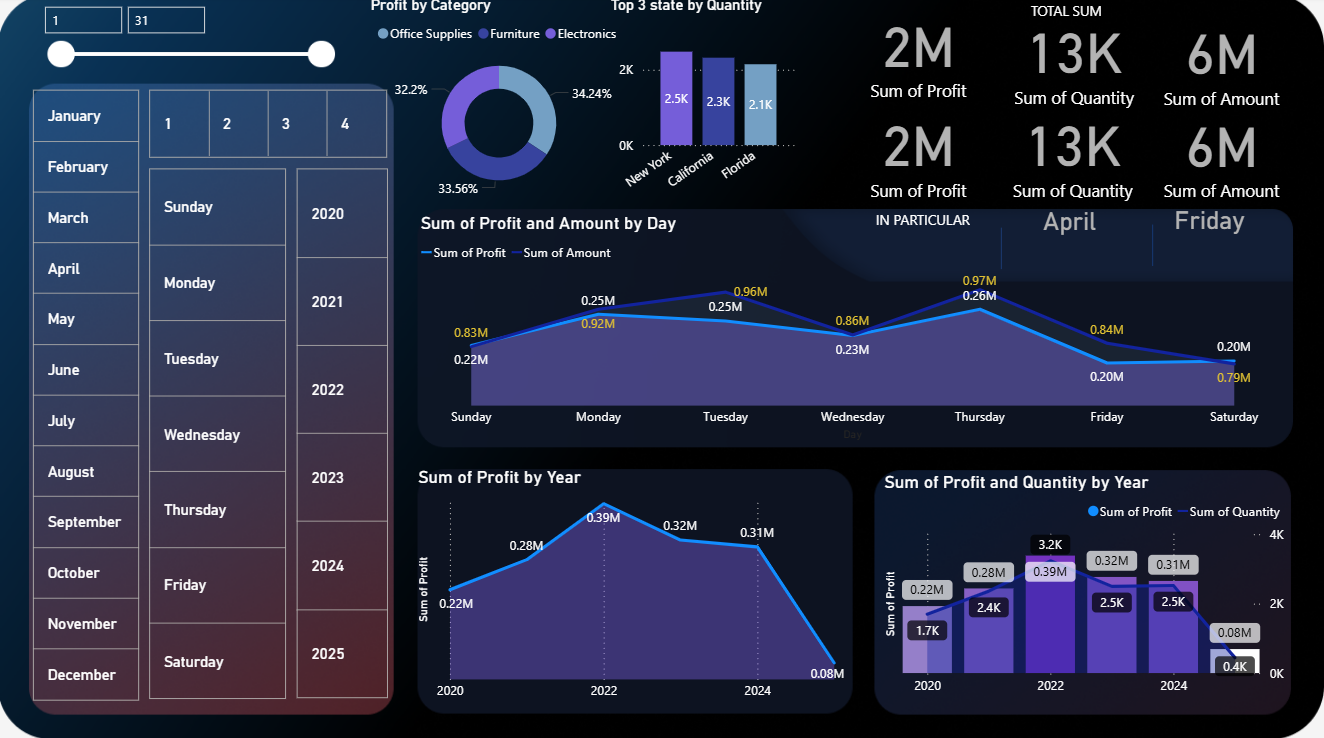

This screenshot's page, from the dashboard's own definition file:
{"tool":"powerbi","page":{"name":"Sales Dashboard","canvas":[1280,720],"ordinal":0},"visuals":[{"type":"card","fields":{"Values":["Sum(Sales Dataset.Amount)"]},"box":[1082.2,89.3,197.9,120.6],"z":0},{"type":"advancedSlicerVisual","fields":{"Values":["Sales Dataset.Year"]},"box":[283.7,161.1,98.4,523.1],"z":1000},{"type":"advancedSlicerVisual","fields":{"Values":["Sales Dataset.Month"]},"box":[28.5,85.5,112.6,608.6],"z":2000},{"type":"advancedSlicerVisual","fields":{"Values":["Sales Dataset.Quarter"]},"box":[141.1,85.5,240.9,75.5],"z":3000},{"type":"cardVisual","fields":{"Data":["Min(Sales Dataset.Month)"]},"box":[992.1,178.2,218.1,61.3],"z":4000},{"type":"advancedSlicerVisual","fields":{"Values":["Sales Dataset.Day"]},"box":[141.1,161.1,142.5,523.1],"z":5000},{"type":"card","fields":{"Values":["Min(Sales Dataset.Day)"]},"box":[1059.1,172.5,220.9,85.5],"z":6000},{"type":"card","fields":{"Values":["Sum(Sales Dataset.Quantity)"]},"box":[962.7,89.3,149.6,119.4],"z":7000},{"type":"lineChart","fields":{"Category":["Sales Dataset.Year"],"Y":["Sum(Sales Dataset.Profit)"]},"box":[400.5,453.3,424.8,235.2],"z":8000},{"type":"areaChart","title":"Sum of Profit and Amount by Day","fields":{"Category":["Sales Dataset.Day"],"Y":["Sum(Sales Dataset.Profit)"],"Y2":["Sum(Sales Dataset.Amount)"]},"box":[403,208.7,844.5,225.6],"z":9000},{"type":"lineStackedColumnComboChart","title":"Sum of Profit and Quantity by Year","fields":{"Category":["Sales Dataset.Year"],"Y":["Sum(Sales Dataset.Profit)"],"Y2":["Sum(Sales Dataset.Quantity)"]},"box":[851,459,396.3,225.2],"z":10000},{"type":"donutChart","title":"Profit by Category","fields":{"Category":["Sales Dataset.Category"],"Y":["Sum(Sales Dataset.Profit)"]},"box":[354.9,0,258,201],"z":11000},{"type":"columnChart","title":"Top 3 state by Quantity","fields":{"Category":["Sales Dataset.State"],"Y":["Sum(Sales Dataset.Quantity)"]},"box":[585.8,0,188.2,208.1],"z":12000},{"type":"card","fields":{"Values":["Sum(Sales Dataset.Amount)"]},"box":[1082.2,0,197.9,120.6],"z":13000},{"type":"card","fields":{"Values":["Sum(Sales Dataset.Quantity)"]},"box":[963.9,0,149.6,119.4],"z":14000},{"type":"card","fields":{"Values":["Sum(Sales Dataset.Profit)"]},"box":[813.1,96.5,150.8,105],"z":15000},{"type":"card","fields":{"Values":["Sum(Sales Dataset.Profit)"]},"box":[813.1,0,150.8,106.2],"z":16000},{"type":"slicer","fields":{"Values":["Sales Dataset.Date"]},"box":[32.8,0,300.8,86.9],"z":17000},{"type":"textbox","box":[991.7,0,79.6,31.4],"z":17001},{"type":"textbox","box":[842.1,201.5,112.2,32.6],"z":17002}]}

Visuals, with their boxes in screenshot pixels (x1, y1, x2, y2), scaled from the page's 1280x720 canvas onto the 1324x738 screenshot:
card - Sum(Sales Dataset.Amount): <region>1119, 92, 1323, 215</region>
advancedSlicerVisual - Sales Dataset.Year: <region>293, 165, 395, 701</region>
advancedSlicerVisual - Sales Dataset.Month: <region>29, 88, 146, 711</region>
advancedSlicerVisual - Sales Dataset.Quarter: <region>146, 88, 395, 165</region>
cardVisual - Min(Sales Dataset.Month): <region>1026, 183, 1252, 245</region>
advancedSlicerVisual - Sales Dataset.Day: <region>146, 165, 293, 701</region>
card - Min(Sales Dataset.Day): <region>1096, 177, 1323, 264</region>
card - Sum(Sales Dataset.Quantity): <region>996, 92, 1151, 214</region>
lineChart - Sales Dataset.Year x Sum(Sales Dataset.Profit): <region>414, 465, 854, 706</region>
"Sum of Profit and Amount by Day" areaChart: <region>417, 214, 1290, 445</region>
"Sum of Profit and Quantity by Year" lineStackedColumnComboChart: <region>880, 470, 1290, 701</region>
"Profit by Category" donutChart: <region>367, 0, 634, 206</region>
"Top 3 state by Quantity" columnChart: <region>606, 0, 801, 213</region>
card - Sum(Sales Dataset.Amount): <region>1119, 0, 1323, 124</region>
card - Sum(Sales Dataset.Quantity): <region>997, 0, 1152, 122</region>
card - Sum(Sales Dataset.Profit): <region>841, 99, 997, 207</region>
card - Sum(Sales Dataset.Profit): <region>841, 0, 997, 109</region>
slicer - Sales Dataset.Date: <region>34, 0, 345, 89</region>
textbox: <region>1026, 0, 1108, 32</region>
textbox: <region>871, 207, 987, 240</region>
